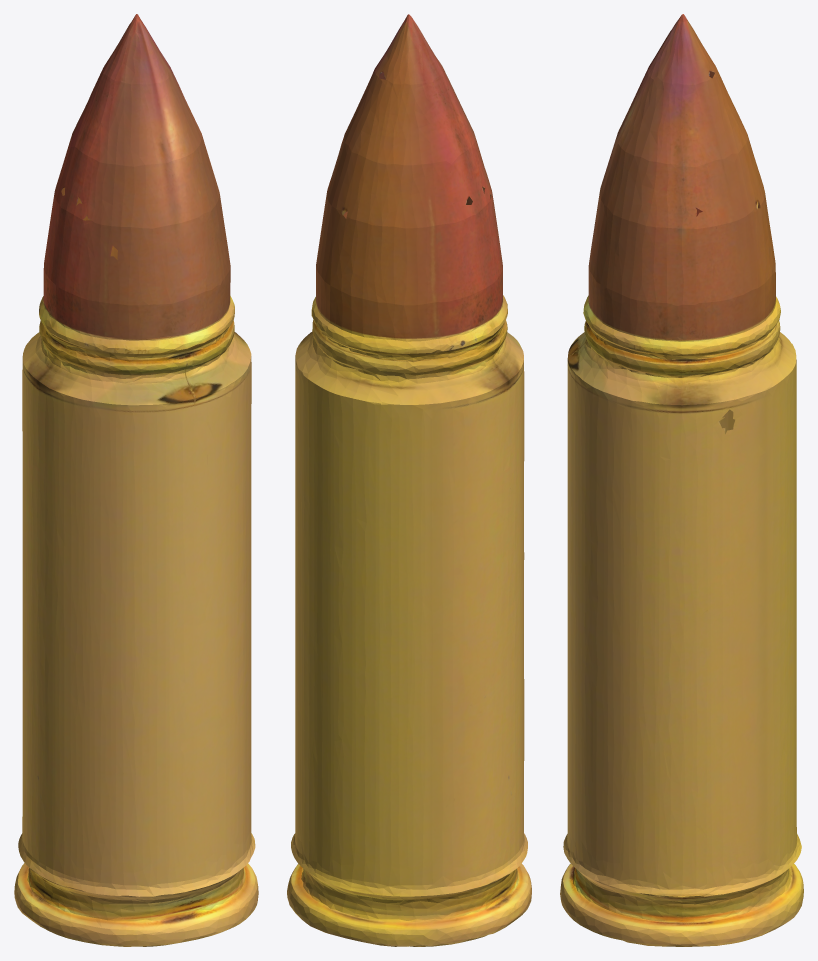
File: bullet_0426102541_texture.fbx
3 views of the same model, side by side, from view 1: azimuth 30°, elevation 25°; view 2: azimuth 150°, elevation 25°; view 3: azimuth 270°, elevation 25° (orthographic).
Visible parts, largest first — view 1: temp; view 2: temp; view 3: temp.
Boxes of the visible parts, x1=… form: temp: x1=14, y1=14, x2=258, y2=946; temp: x1=287, y1=14, x2=531, y2=946; temp: x1=560, y1=14, x2=803, y2=946.
Bounding box in the file's own units: 50.29 × 200 × 50.06.
Materials: 1 (1 with a texture image).
